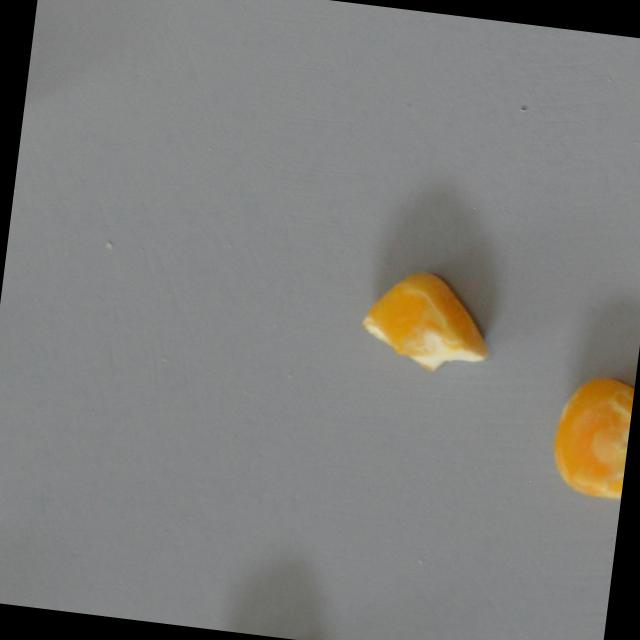pelicula: (354, 261, 496, 379), (546, 368, 635, 499)
